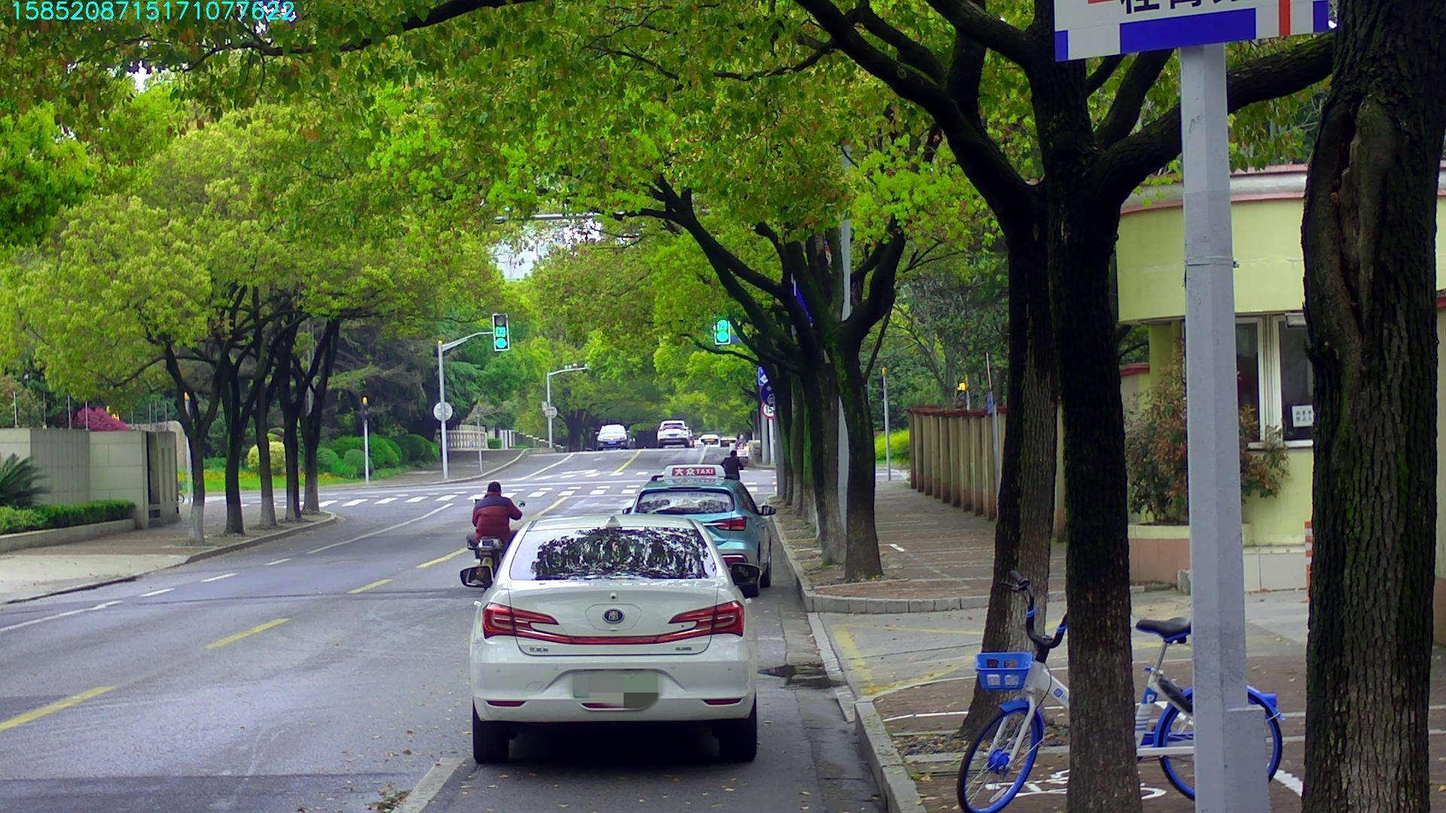green: (493, 313, 508, 349), (714, 315, 728, 343)
